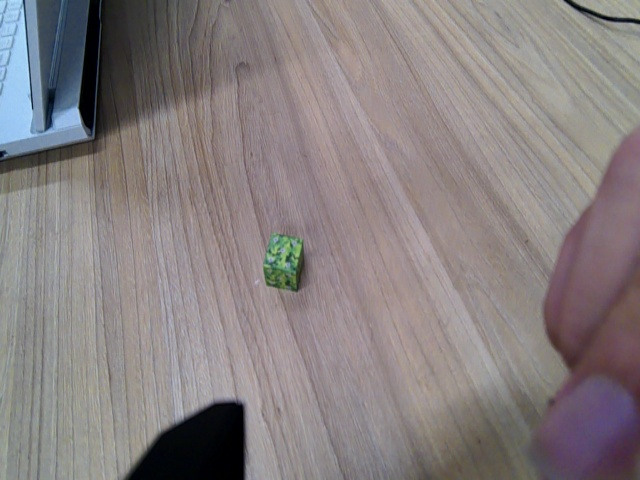grass: (262, 232, 305, 292)
